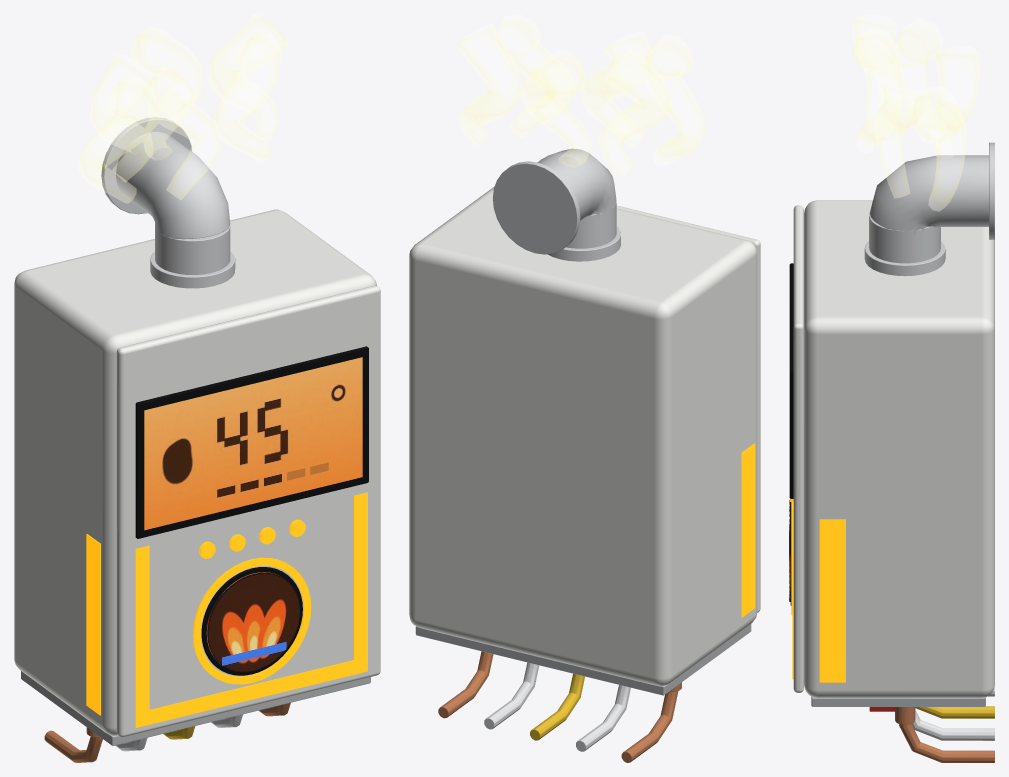
The model's file is boiler.glb.
3 views of the same model, side by side, from view 1: azimuth 30°, elevation 25°; view 2: azimuth 150°, elevation 25°; view 3: azimuth 270°, elevation 25° (orthographic). The views are drawn at different scales.
Visible parts, largest first — view 1: boiler_body, boiler_cover, boiler_display, boiler_exhaust, boiler_heat_led, boiler_flue, boiler_panel, boiler_flame, boiler_pipes; view 2: boiler_body, boiler_exhaust, boiler_flue, boiler_pipes, boiler_panel, boiler_heat_led, boiler_cover; view 3: boiler_body, boiler_exhaust, boiler_flue, boiler_cover, boiler_heat_led, boiler_pipes, boiler_panel.
Part boxes in pixels (x1,y1,x2,y2): boiler_body: [14, 209, 376, 735]; boiler_cover: [116, 285, 380, 737]; boiler_display: [144, 357, 362, 530]; boiler_exhaust: [78, 14, 288, 203]; boiler_heat_led: [86, 492, 367, 727]; boiler_flue: [101, 117, 235, 288]; boiler_panel: [21, 346, 370, 745]; boiler_flame: [206, 572, 300, 672]; boiler_pipes: [44, 703, 290, 762]; boiler_body: [409, 186, 757, 686]; boiler_exhaust: [456, 14, 704, 176]; boiler_flue: [492, 148, 620, 261]; boiler_pipes: [438, 651, 681, 762]; boiler_panel: [415, 624, 751, 695]; boiler_heat_led: [741, 443, 755, 617]; boiler_cover: [616, 205, 760, 612]; boiler_body: [804, 200, 994, 697]; boiler_exhaust: [853, 14, 979, 211]; boiler_flue: [864, 142, 994, 276]; boiler_cover: [793, 205, 803, 692]; boiler_heat_led: [789, 498, 845, 682]; boiler_pipes: [869, 685, 994, 762]; boiler_panel: [789, 263, 985, 706].
Bounding box in the file's own units: 0.403 × 0.9904 × 0.275.
13 materials, 2 textured.
